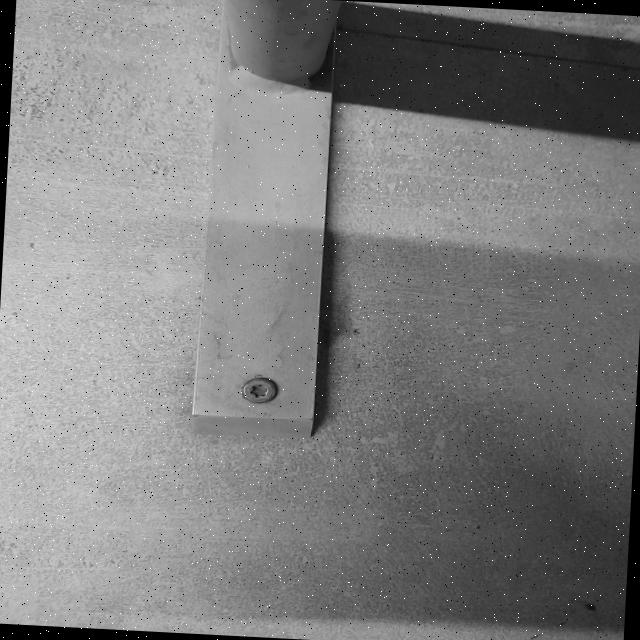Torx: (240, 376, 280, 404)
